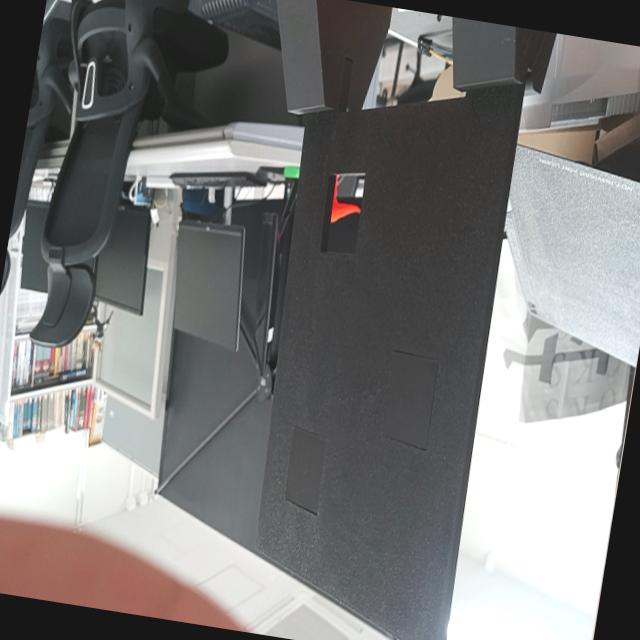Obstacle: (320, 172, 365, 259)
Wall: (253, 95, 514, 640)
